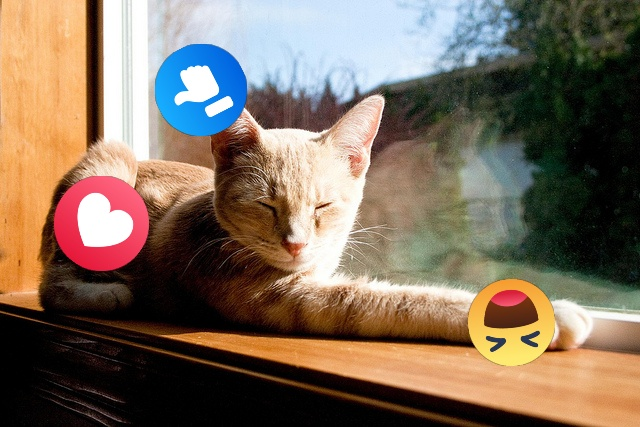haha: (468, 279, 555, 366)
like: (155, 44, 247, 136)
love: (54, 176, 149, 271)
